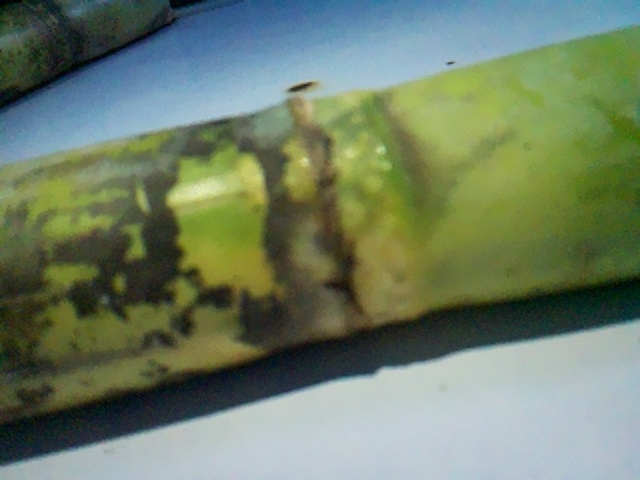Good Sugarcane: (0, 29, 640, 428), (0, 2, 176, 105)
Node: (258, 82, 395, 361)
